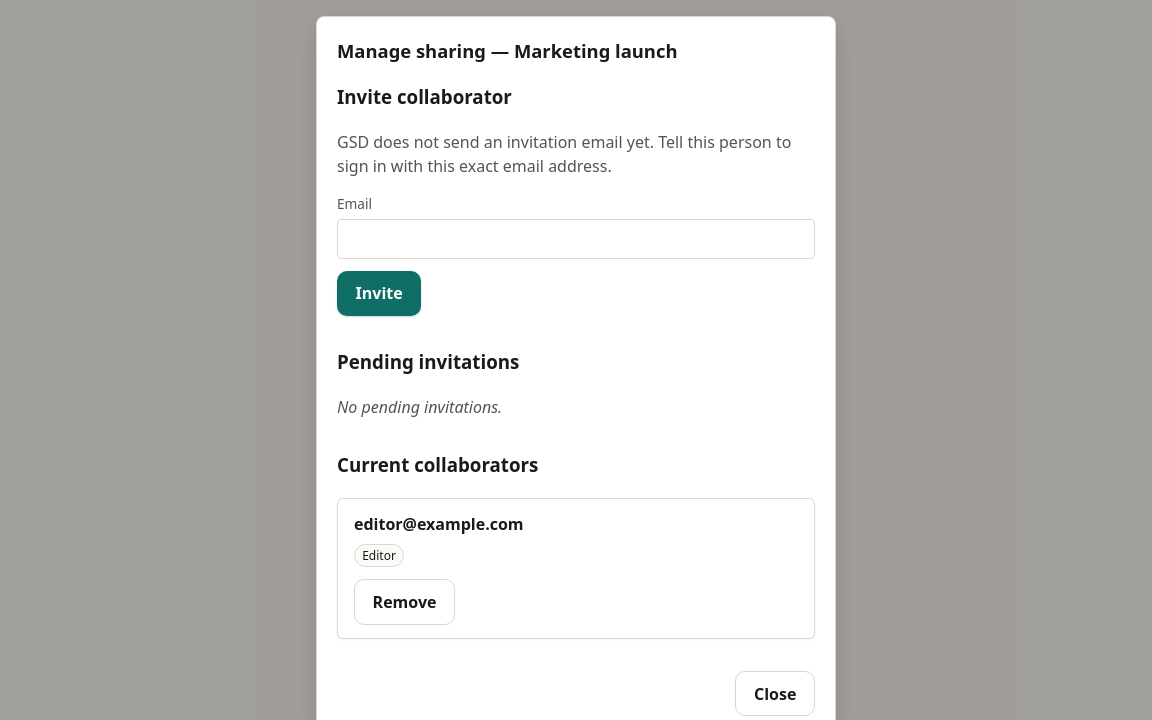
Test: ManageSharingDialog — current collaborators › requires confirmation before removing a collaborator
expect the heading "editor@example.com" is shown: met, box [354, 513, 524, 535]
What coordinates should you click on to do the following:
click the button "Remove"
I would click on:
 (405, 602)
Its box is [354, 580, 455, 625].
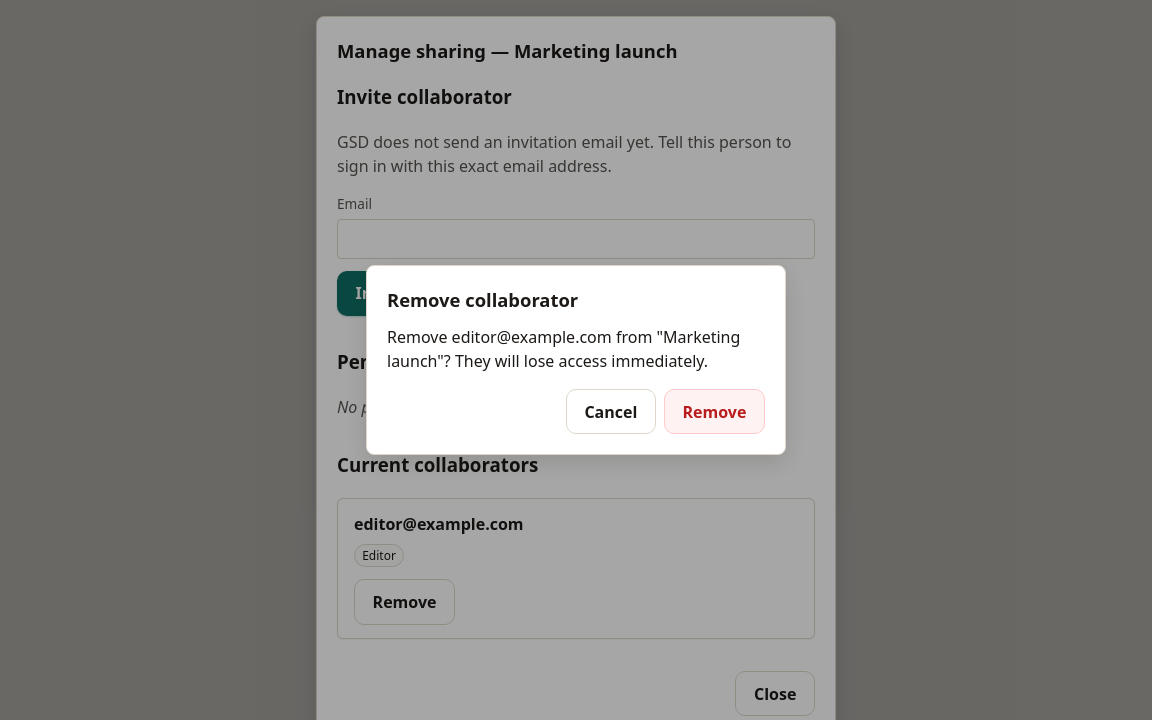
expect the text "Remove editor@example.com" is shown: met, box [387, 326, 740, 372]
